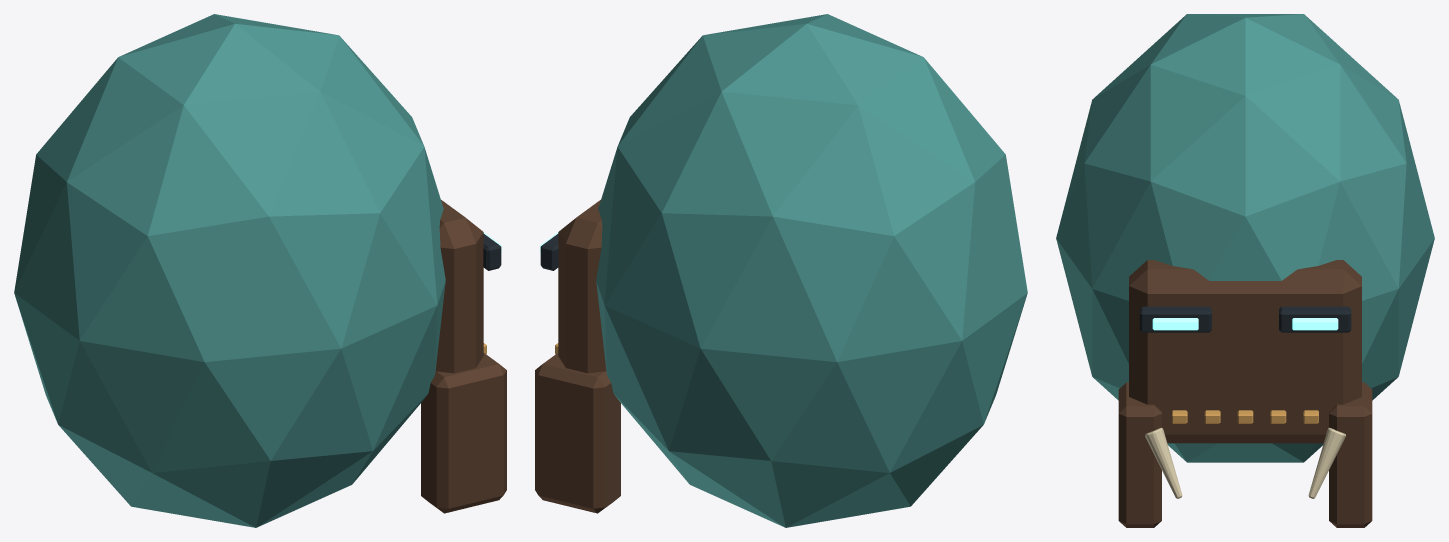
File: SM_Life_Helm_Hunter.fbx
The picture shows the model from 3 angles, left to right: view 1: azimuth 30°, elevation 25°; view 2: azimuth 150°, elevation 25°; view 3: azimuth 270°, elevation 25°; orthographic projection. The views are drawn at different scales.
Visible parts, largest first — view 1: SM_Life_Helm_Hunter; view 2: SM_Life_Helm_Hunter; view 3: SM_Life_Helm_Hunter.
Part boxes in pixels (x1,y1,x2,y2): SM_Life_Helm_Hunter: [14, 14, 506, 527]; SM_Life_Helm_Hunter: [535, 14, 1027, 527]; SM_Life_Helm_Hunter: [1056, 14, 1434, 527].
Bounding box in the file's own units: 32.76 × 37 × 28.8.
